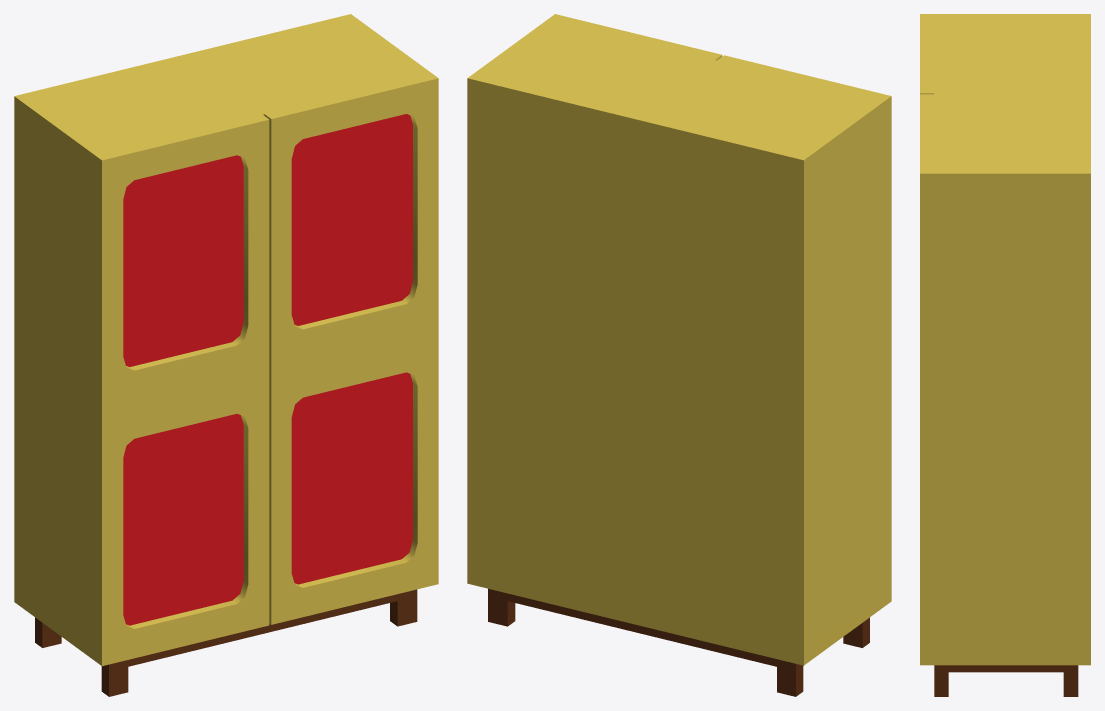
File: closet.fbx
3 views of the same model, side by side, from view 1: azimuth 30°, elevation 25°; view 2: azimuth 150°, elevation 25°; view 3: azimuth 270°, elevation 25° (orthographic). The views are drawn at different scales.
Visible parts, largest first — view 1: closet; view 2: closet; view 3: closet.
Part boxes in pixels (box(x1,y1,x2,y2)): closet: box(14, 14, 438, 696); closet: box(467, 14, 891, 696); closet: box(920, 14, 1090, 696).
Size of the model in its own units: 139 by 216 by 62.96.
